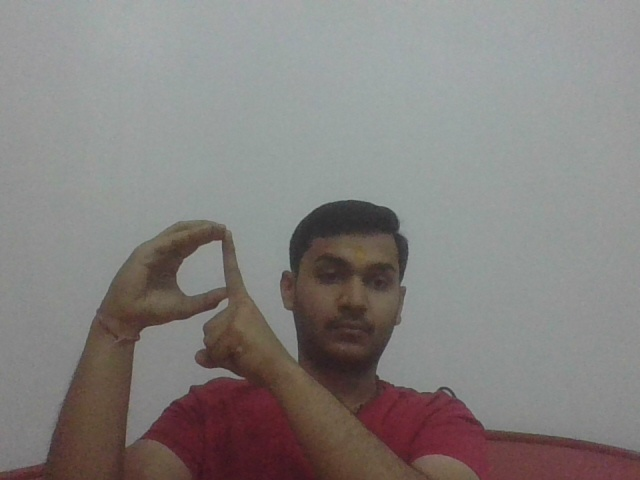D: (111, 217, 259, 374)
